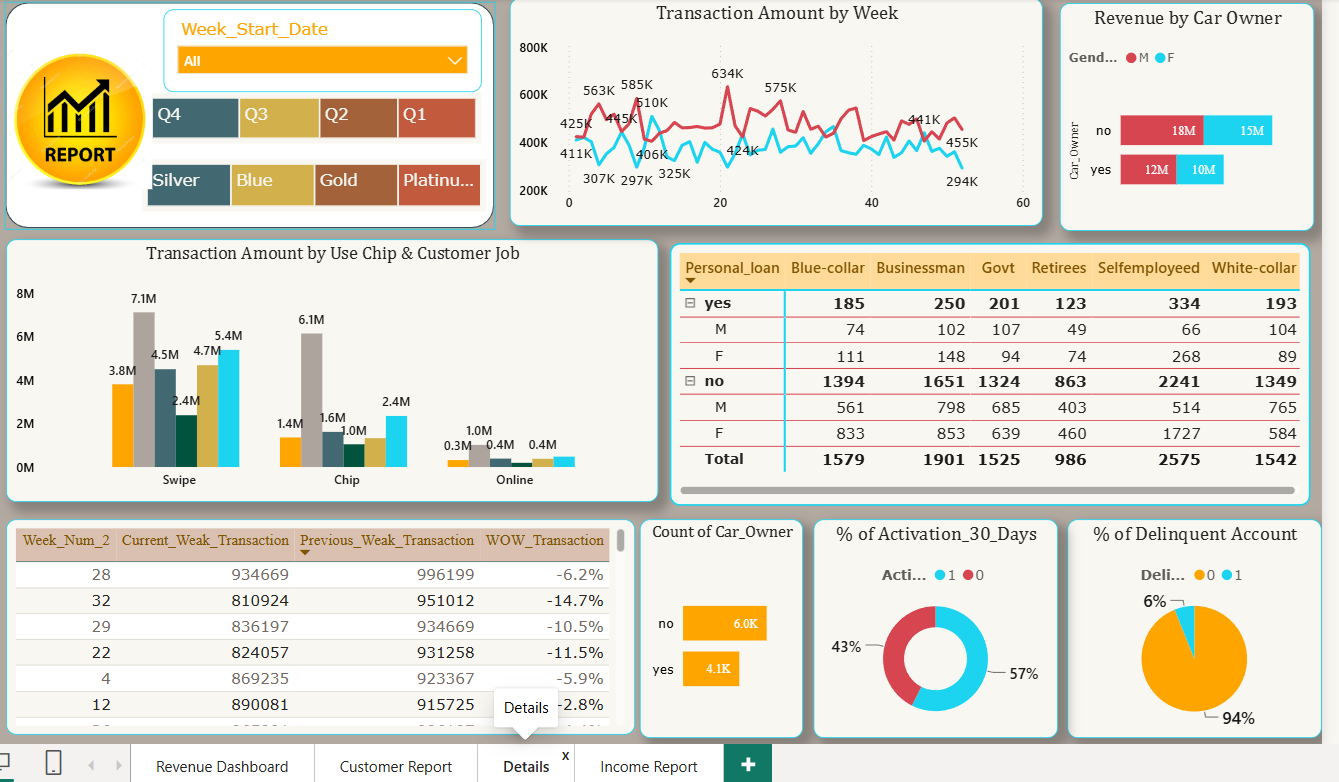

The dashboard page shown, as its layout file describes it:
{"tool":"powerbi","page":{"name":"Details","canvas":[1280,720],"ordinal":2},"visuals":[{"type":"shape","box":[8.1,3.3,473.5,219.7],"z":0},{"type":"pieChart","title":"% of Delinquent Account","fields":{"Category":["credit_card.Delinquent_Acc"],"Y":["Divide(CountNonNull(credit_card.Delinquent_Acc), ScopedEval(CountNonNull(credit_card.Delinquent_Acc), []))"]},"box":[1033.9,503.1,245.7,211.5],"z":1000},{"type":"clusteredColumnChart","title":"Transaction Amount by Use Chip & Customer Job","fields":{"Category":["credit_card.Use Chip"],"Y":["Sum(credit_card.Total_Trans_Amt)"],"Series":["customer.Customer_Job"]},"box":[9.8,232.7,629.7,253.8],"z":2000},{"type":"barChart","title":"Count of Car_Owner","fields":{"Category":["customer.Car_Owner"],"Y":["CountNonNull(customer.Car_Owner)"]},"box":[621.6,502.8,157.8,211.5],"z":3000},{"type":"barChart","title":"Revenue by Car Owner ","fields":{"Category":["customer.Car_Owner"],"Y":["Sum(credit_card.Revenue)"],"Series":["customer.Gender"]},"box":[1026.7,4.9,245.7,219.7],"z":4000},{"type":"lineChart","title":"Transaction Amount by Week","fields":{"Category":["credit_card.Week_Num_2","credit_card.Week_Start_Date.Variation.Date Hierarchy.Month","credit_card.Week_Start_Date.Variation.Date Hierarchy.Day"],"Y":["Sum(credit_card.Total_Trans_Amt)"],"Series":["customer.Gender"]},"box":[495.8,0,514.2,219.7],"z":5000},{"type":"donutChart","title":"% of Activation_30_Days","fields":{"Category":["credit_card.Activation_30_Days"],"Y":["Divide(CountNonNull(credit_card.Activation_30_Days), ScopedEval(CountNonNull(credit_card.Activation_30_Days), []))"]},"box":[789,503.1,235.9,211.5],"z":6000},{"type":"pivotTable","fields":{"Rows":["customer.Personal_loan","customer.Gender"],"Values":["CountNonNull(customer.Personal_loan)"],"Columns":["customer.Customer_Job"]},"box":[650.9,235.9,618.3,253.8],"z":7000},{"type":"tableEx","fields":{"Values":["credit_card.Week_Num_2","New Measure.Current_Weak_Transaction","New Measure.Previous_Weak_Transaction","New Measure.WOW_Transaction"]},"box":[9.8,502.8,606.9,208.3],"z":8000},{"type":"treemap","fields":{"Group":["credit_card.Card_Category"],"Values":["Avg(credit_card.Client_Num)"]},"box":[141.6,156.2,331.9,50.4],"z":9000},{"type":"slicer","fields":{"Values":["credit_card.Week_Start_Date"]},"box":[161.1,11.4,307.5,79.7],"z":10000},{"type":"treemap","fields":{"Group":["credit_card.Qtr"],"Values":["Avg(credit_card.Client_Num)"]},"box":[146.4,91.1,322.2,48.8],"z":11000},{"type":"image","box":[11.4,32.5,139.9,169.2],"z":12000}]}

Visuals, with their boxes in screenshot pixels (x1, y1, x2, y2):
shape: <bbox>5, 0, 493, 227</bbox>
"% of Delinquent Account" pieChart: <bbox>1063, 516, 1317, 734</bbox>
"Transaction Amount by Use Chip & Customer Job" clusteredColumnChart: <bbox>7, 237, 656, 498</bbox>
"Count of Car_Owner" barChart: <bbox>638, 515, 801, 733</bbox>
"Revenue by Car Owner " barChart: <bbox>1056, 2, 1309, 228</bbox>
"Transaction Amount by Week" lineChart: <bbox>508, 0, 1038, 223</bbox>
"% of Activation_30_Days" donutChart: <bbox>810, 516, 1054, 734</bbox>
pivotTable - customer.Personal_loan x customer.Gender: <bbox>668, 240, 1306, 502</bbox>
tableEx - credit_card.Week_Num_2 x New Measure.Current_Weak_Transaction: <bbox>7, 515, 633, 730</bbox>
treemap - credit_card.Card_Category x Avg(credit_card.Client_Num): <bbox>143, 158, 485, 210</bbox>
slicer - credit_card.Week_Start_Date: <bbox>163, 8, 480, 90</bbox>
treemap - credit_card.Qtr x Avg(credit_card.Client_Num): <bbox>148, 90, 480, 141</bbox>
image: <bbox>8, 30, 153, 205</bbox>
